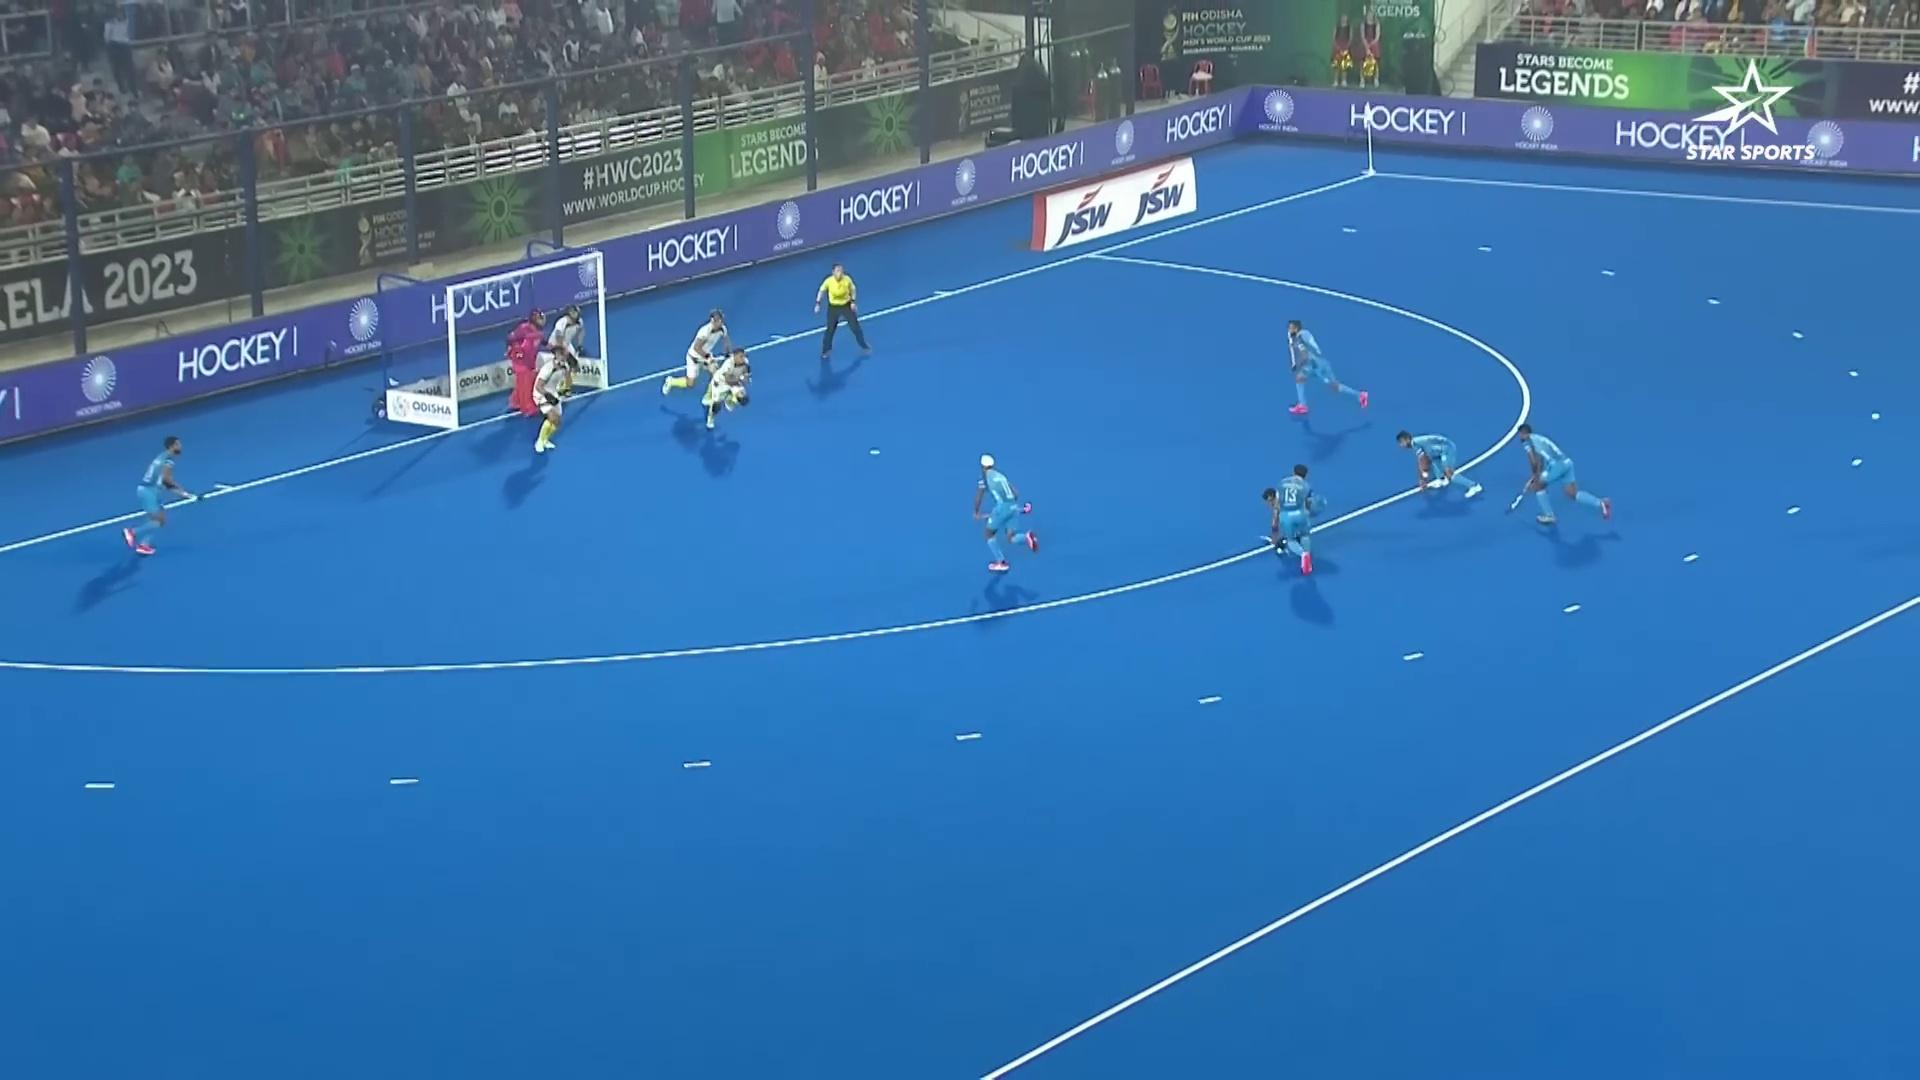ball: (1505, 498, 1524, 516)
